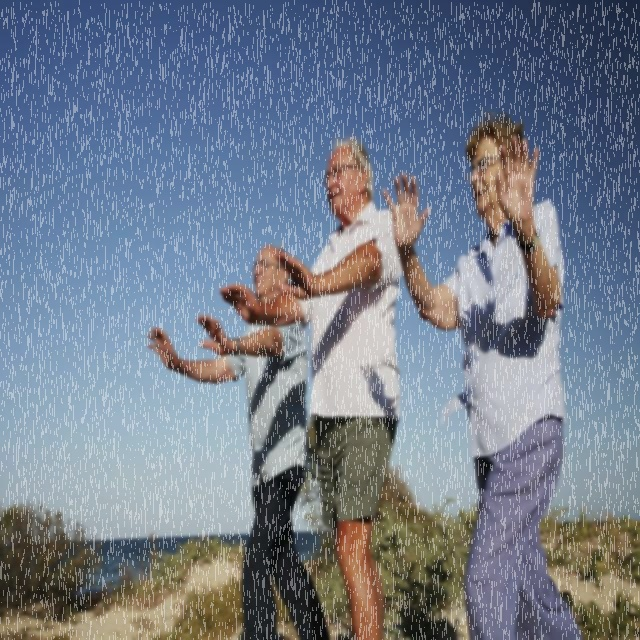pessoa: (380, 106, 586, 639), (216, 130, 406, 640), (143, 240, 333, 640)
